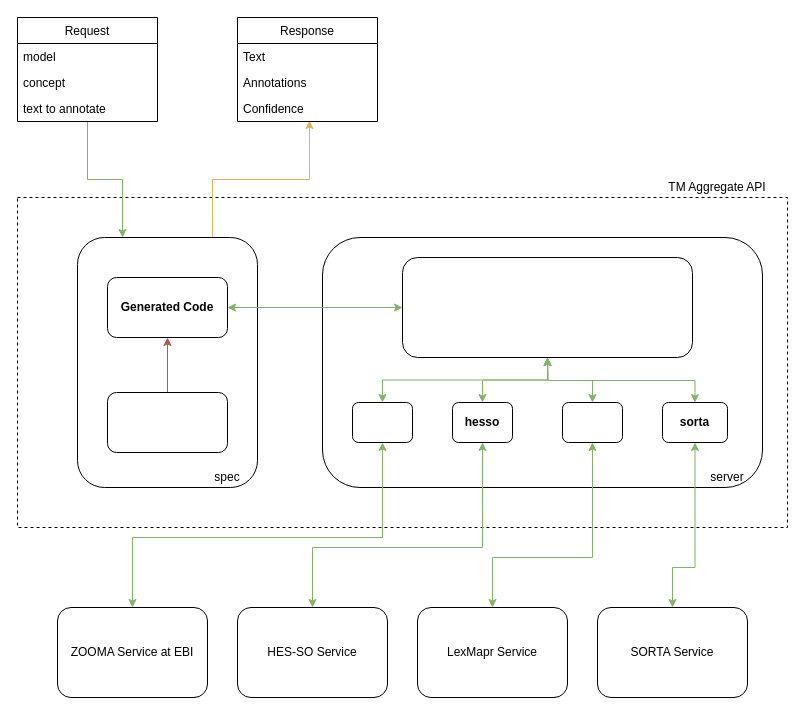
The diagram is 805 pixels wide and 715 high, and some of its shapes have lost their labels. Each missing label, with the centre of its shape:
"AnnotateApiDelegateImpl Route based on the model parameter" belongs at pixel 547 307.
"lexmapr" belongs at pixel 592 422.
"Open API Definition openapi.yml" belongs at pixel 167 422.
"zooma" belongs at pixel 382 422.
